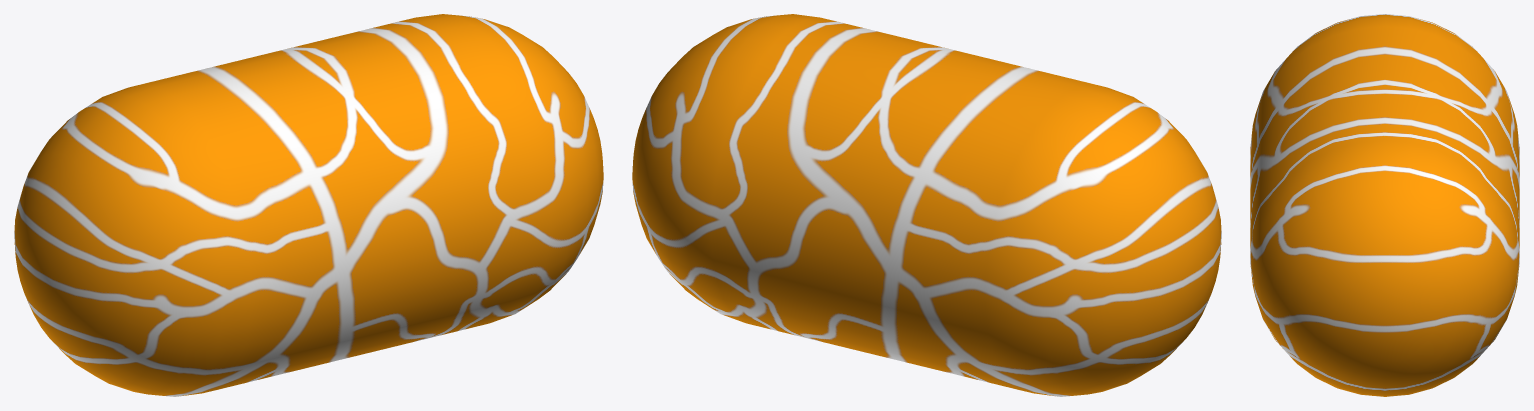
Rendered from block_yellow2.glb.
3 renders of one model, left to right at view 1: azimuth 30°, elevation 25°; view 2: azimuth 150°, elevation 25°; view 3: azimuth 270°, elevation 25°, orthographic. The views are drawn at different scales.
Parts seen in each view (by area): view 1: Sphere; view 2: Sphere; view 3: Sphere.
Boxes of the visible parts, box(x1,y1,x2,y2) form: Sphere: box(14, 14, 603, 396); Sphere: box(632, 14, 1221, 396); Sphere: box(1250, 14, 1519, 396).
Size of the model in its own units: 2 by 1 by 1.
1 material, 1 textured.
